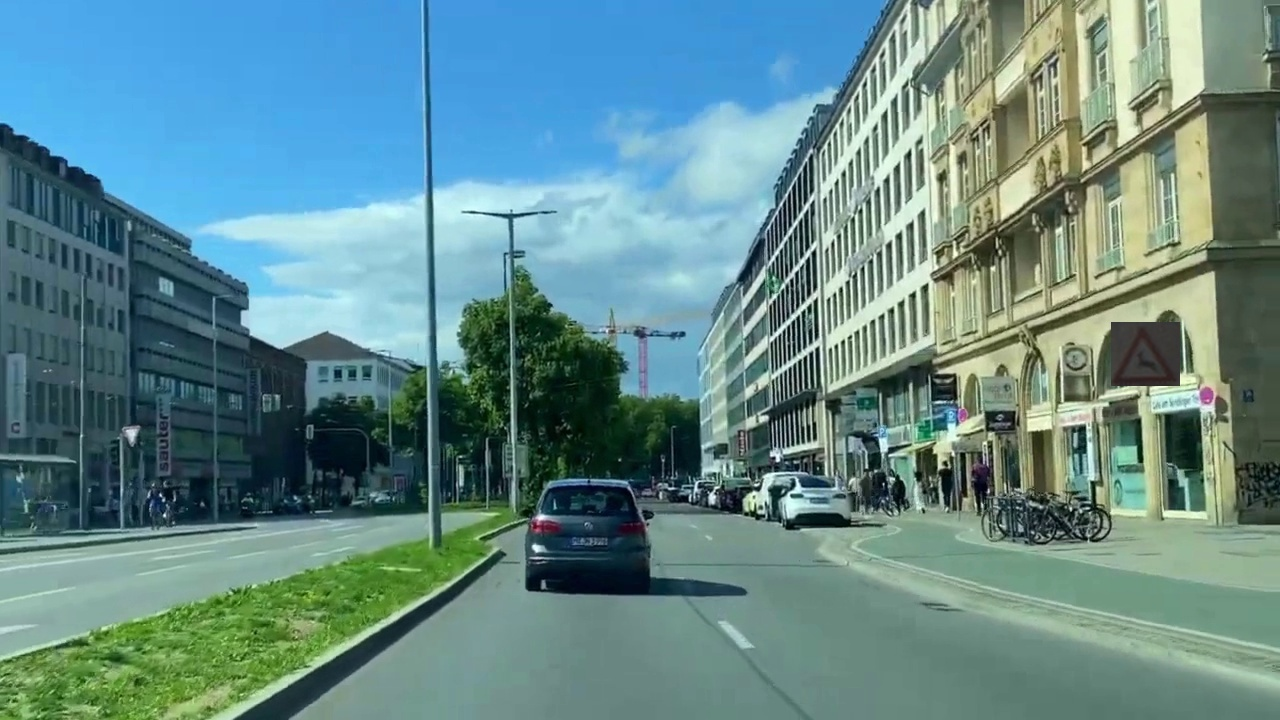Wild animals: (1111, 322, 1180, 386)
